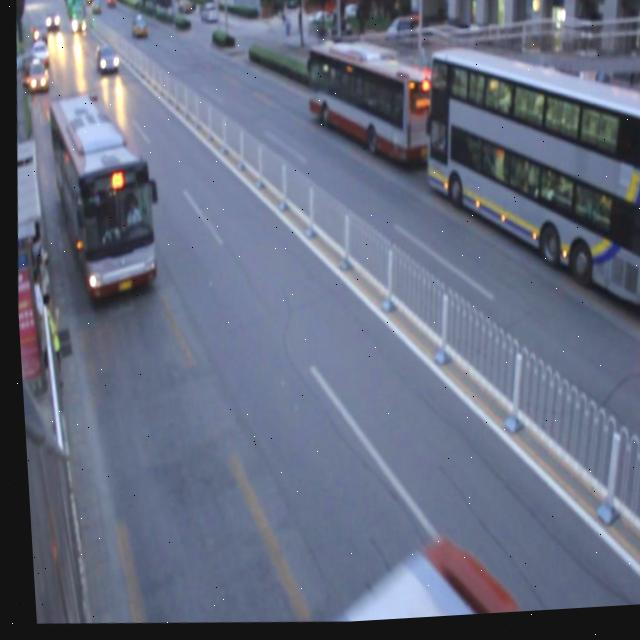car: (25, 58, 50, 93)
van: (414, 41, 640, 324), (37, 92, 162, 296), (319, 529, 539, 626), (301, 40, 443, 176)
